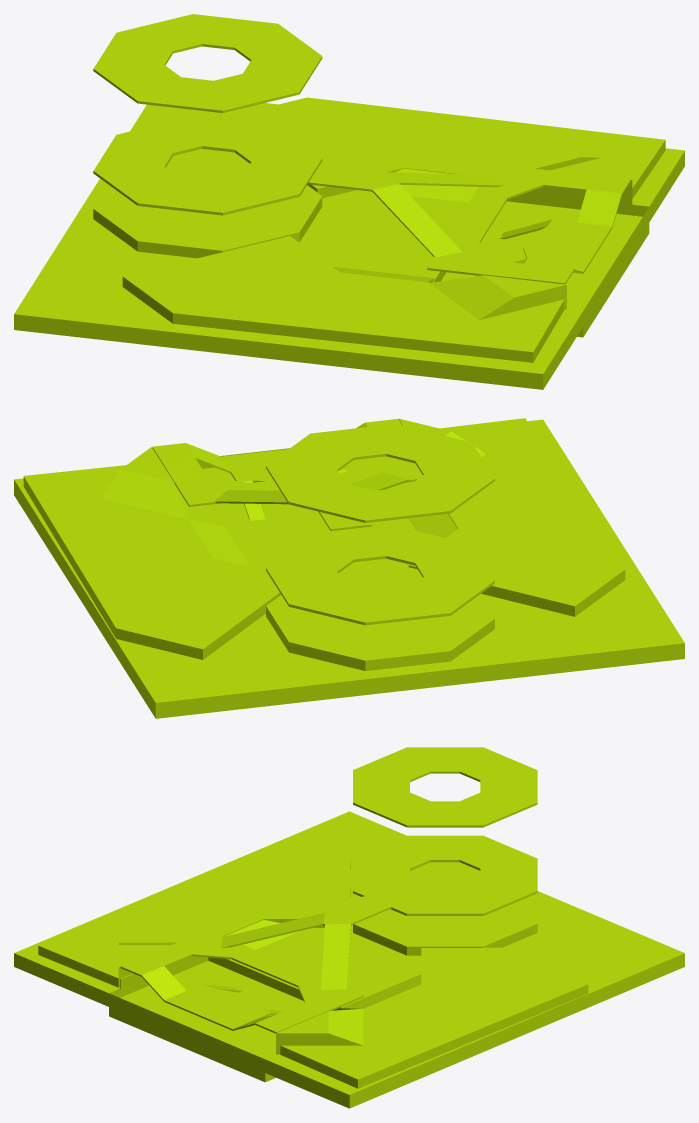
Rendered from Fix_StadiumWhiteBlock_Floor.fbx.
3 renders of one model, top to bottom at view 1: azimuth 30°, elevation 25°; view 2: azimuth 150°, elevation 25°; view 3: azimuth 270°, elevation 25°, orthographic. The views are drawn at different scales.
Visible parts, largest first — view 1: MainGeometry.001; view 2: MainGeometry.001; view 3: MainGeometry.001.
Boxes of the visible parts, box(x1,y1,x2,y2) form: MainGeometry.001: box(14, 14, 684, 389); MainGeometry.001: box(14, 418, 684, 718); MainGeometry.001: box(14, 747, 684, 1108).
Size of the model in its own units: 34959 by 8821 by 34959.
